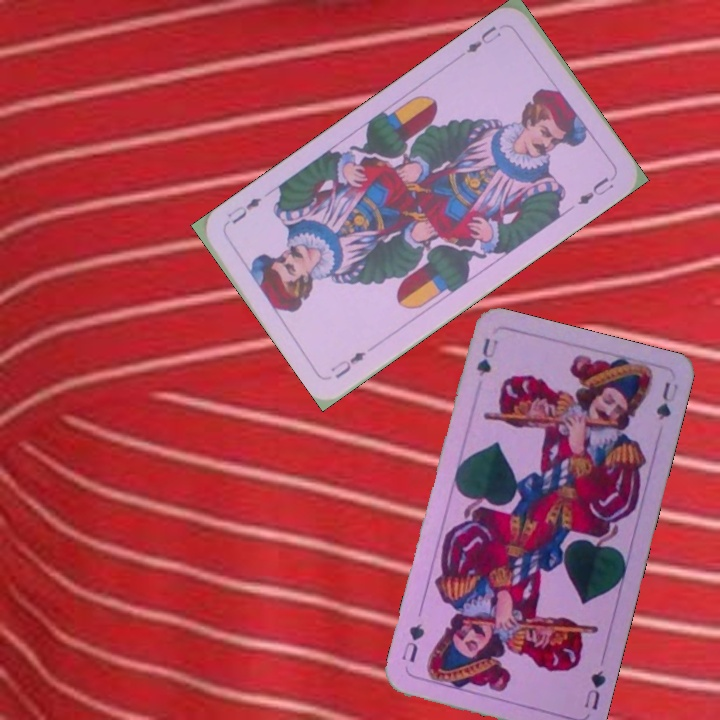EU: (326, 347, 368, 382), (462, 22, 504, 56)
GU: (580, 666, 609, 713), (473, 334, 500, 379)
